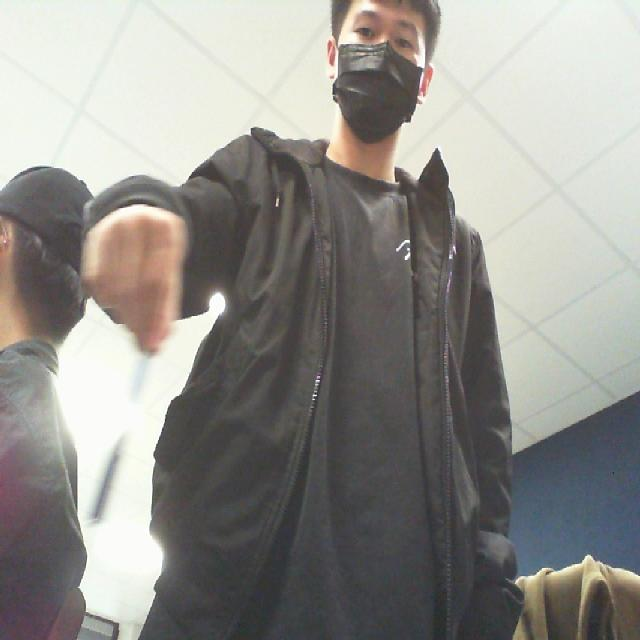Pen: (83, 328, 156, 535)
